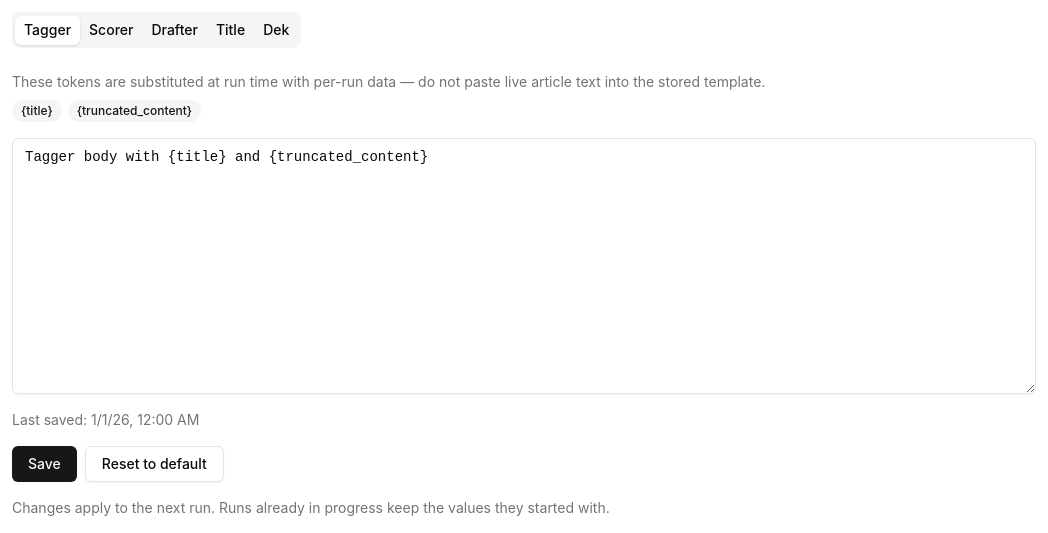
Test case: PromptsEditor — tabs and placeholders › switching to Scorer shows scorer placeholder chips and that role's body
Click the tab "Scorer".
click(111, 30)  # box [80,16,142,44]
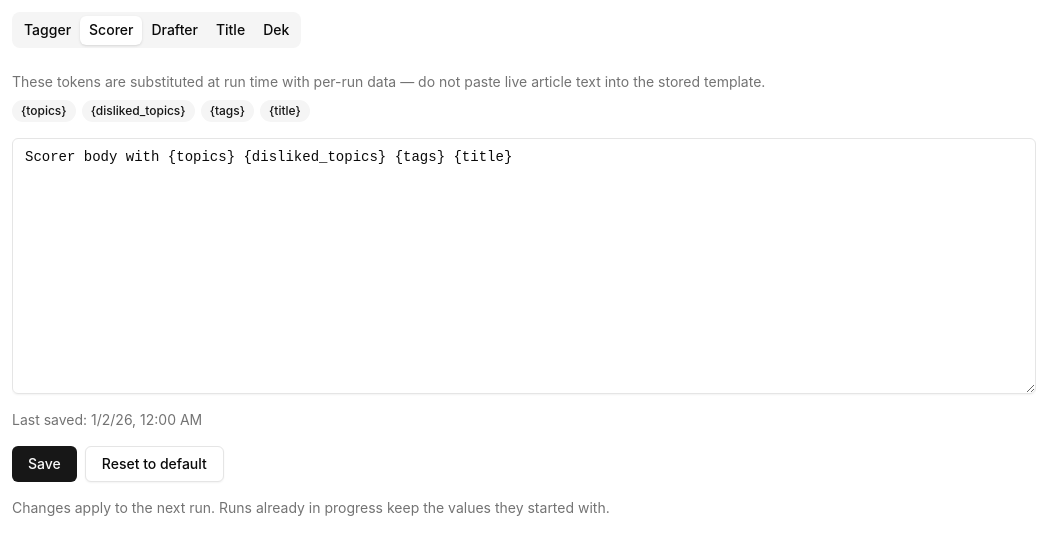
Now the text box holds "Scorer body with {topics} {disliked_topics} {tags} {title}", box [12,138,1036,394]
Now the text "{topics}" is shown, box [12,100,76,122]
Now the text "{disliked_topics}" is shown, box [82,100,195,122]
